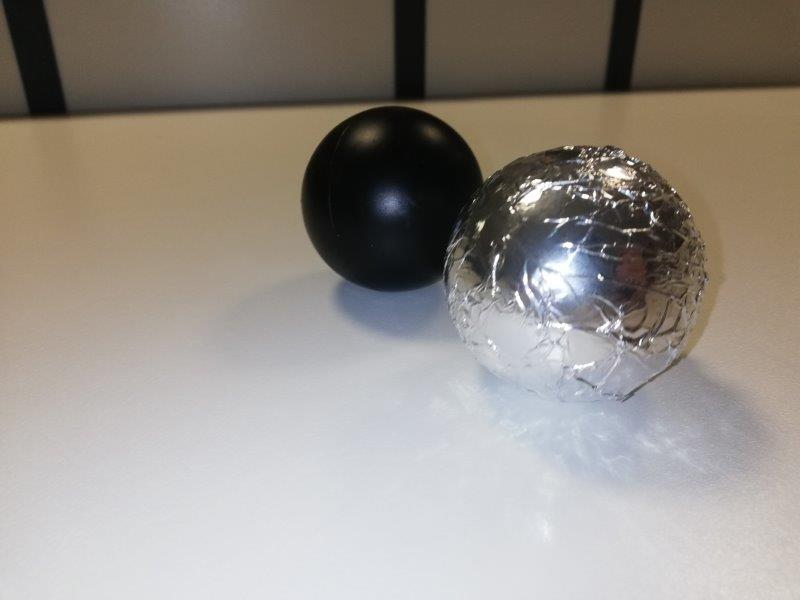bianca: (448, 147, 707, 405)
nera: (297, 104, 477, 293)
